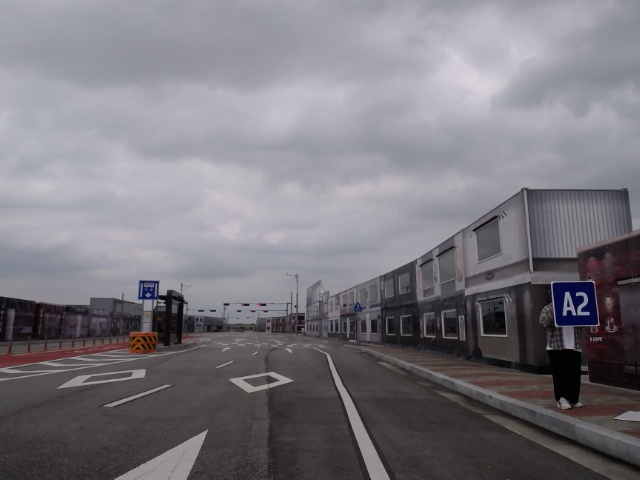delivery_a2: (551, 280, 599, 328)
